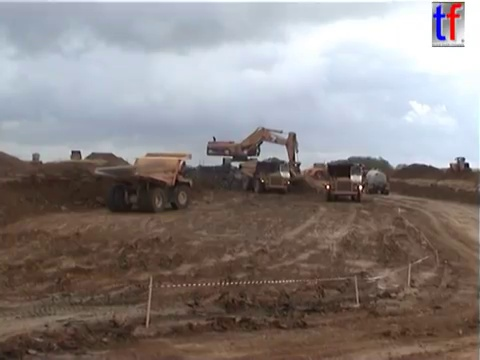excavator: (205, 124, 303, 181)
truck: (91, 150, 195, 215), (235, 157, 292, 195), (323, 160, 367, 204), (353, 163, 392, 196), (307, 161, 366, 181), (69, 148, 83, 164)
wheel loader: (444, 156, 473, 176)
